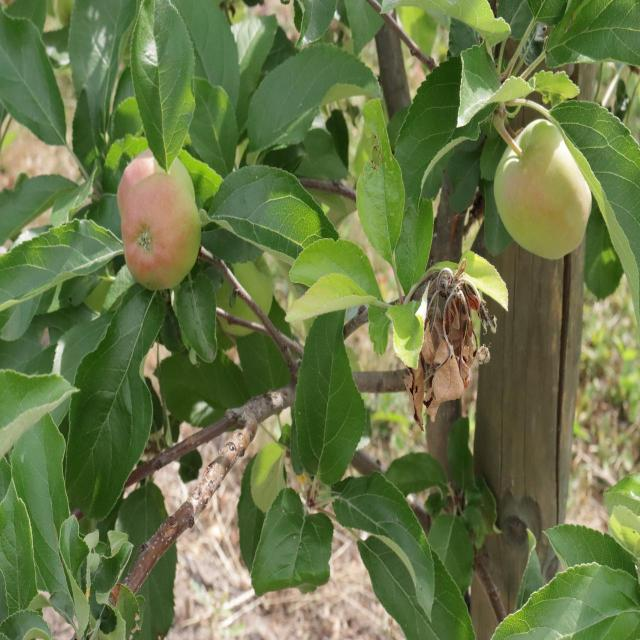-FireBlight-: (399, 269, 502, 430)
